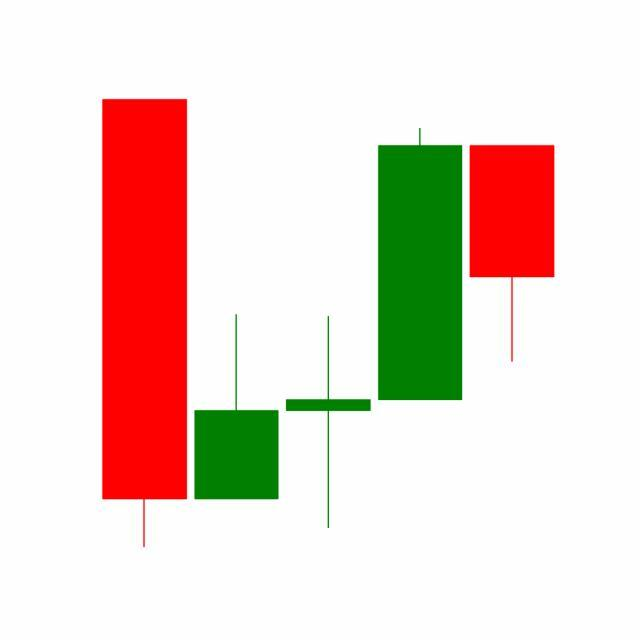Marubozu: (374, 126, 468, 404)
